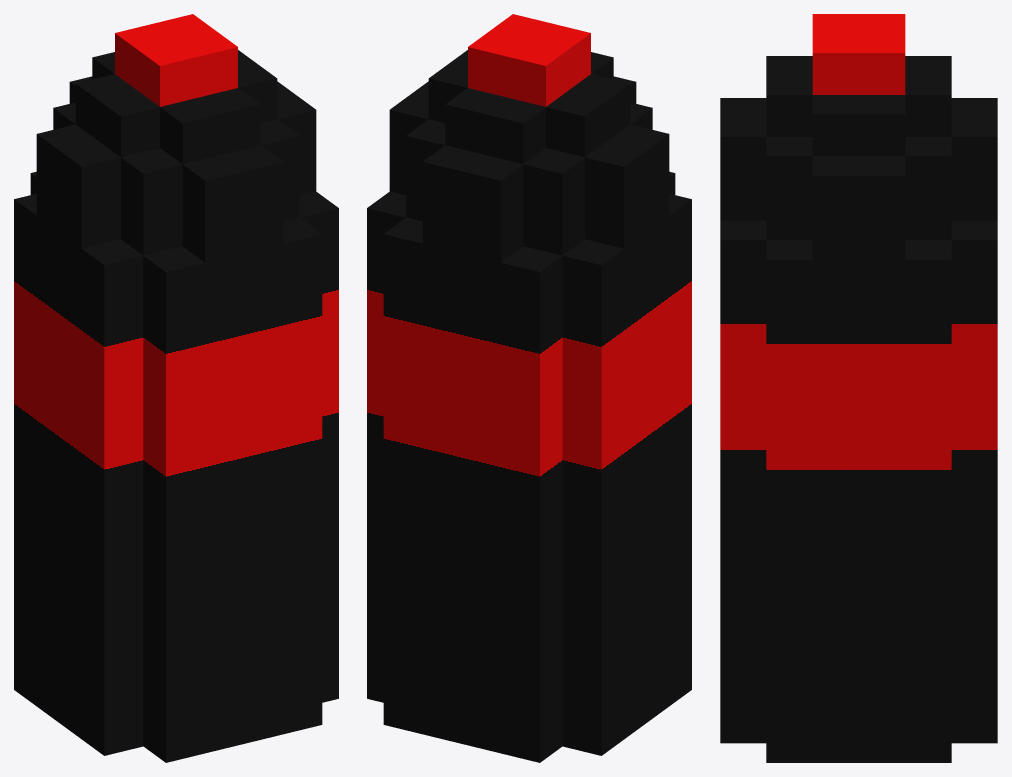
File: Bottle.dae
3 renders of one model, left to right at view 1: azimuth 30°, elevation 25°; view 2: azimuth 150°, elevation 25°; view 3: azimuth 270°, elevation 25°, orthographic. The views are drawn at different scales.
Visible parts, largest first — view 1: Bottle; view 2: Bottle; view 3: Bottle.
Boxes of the visible parts, x1,y1,x2,y2 form: Bottle: (14,14,338,762); Bottle: (367,14,691,762); Bottle: (720,14,997,762).
Bounding box in the file's own units: 6 × 16 × 6.
1 material, 1 textured.
